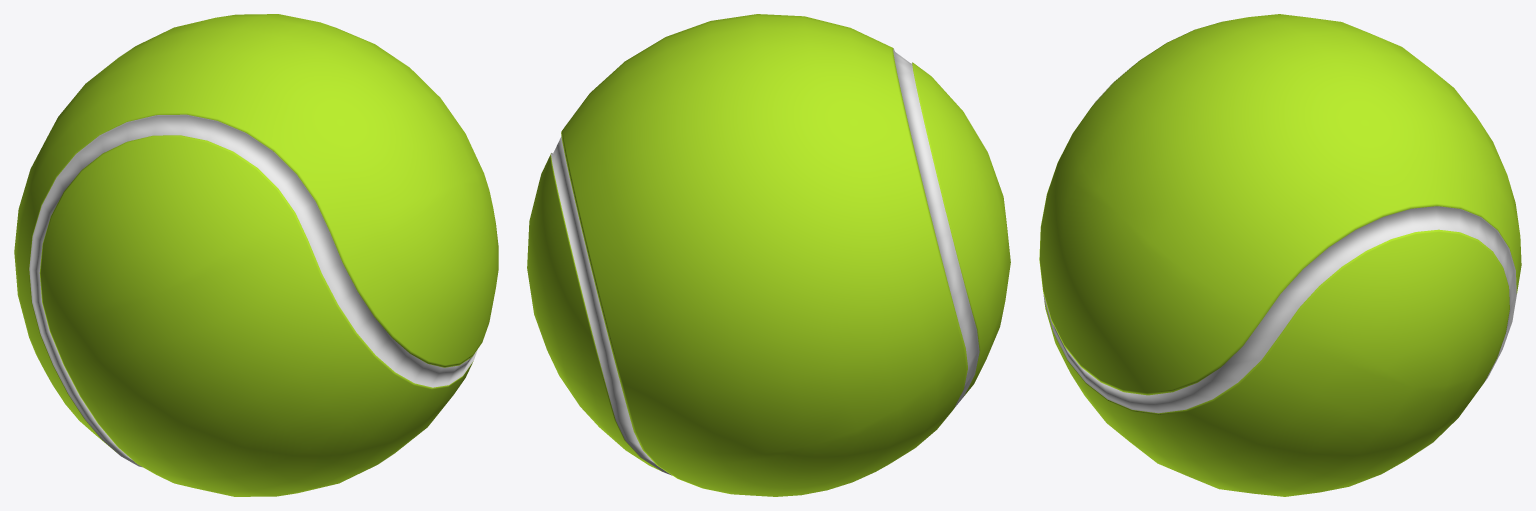
The picture shows the model from 3 angles, left to right: view 1: azimuth 30°, elevation 25°; view 2: azimuth 150°, elevation 25°; view 3: azimuth 270°, elevation 25°; orthographic projection.
Parts seen in each view (by area): view 1: Sphere.001; view 2: Sphere.001; view 3: Sphere.001.
Boxes of the visible parts, x1,y1,x2,y2 form: Sphere.001: [14, 14, 498, 496]; Sphere.001: [527, 14, 1010, 496]; Sphere.001: [1039, 14, 1521, 496].
Size of the model in its own units: 0.4999 by 0.4983 by 0.5.
